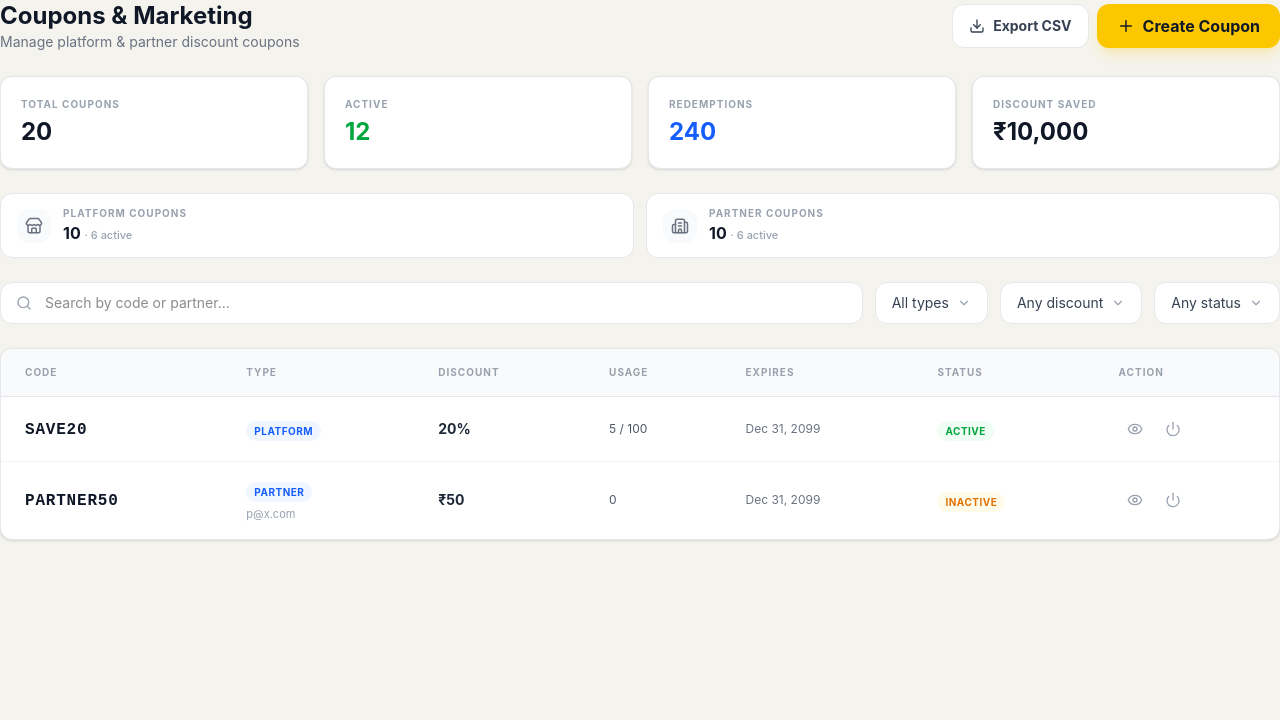
Scenario: CouponsMarketing › opens the detail slide-over
Click the text "SAVE20". click: (56, 430)
box: x1=25 y1=421 x2=87 y2=439
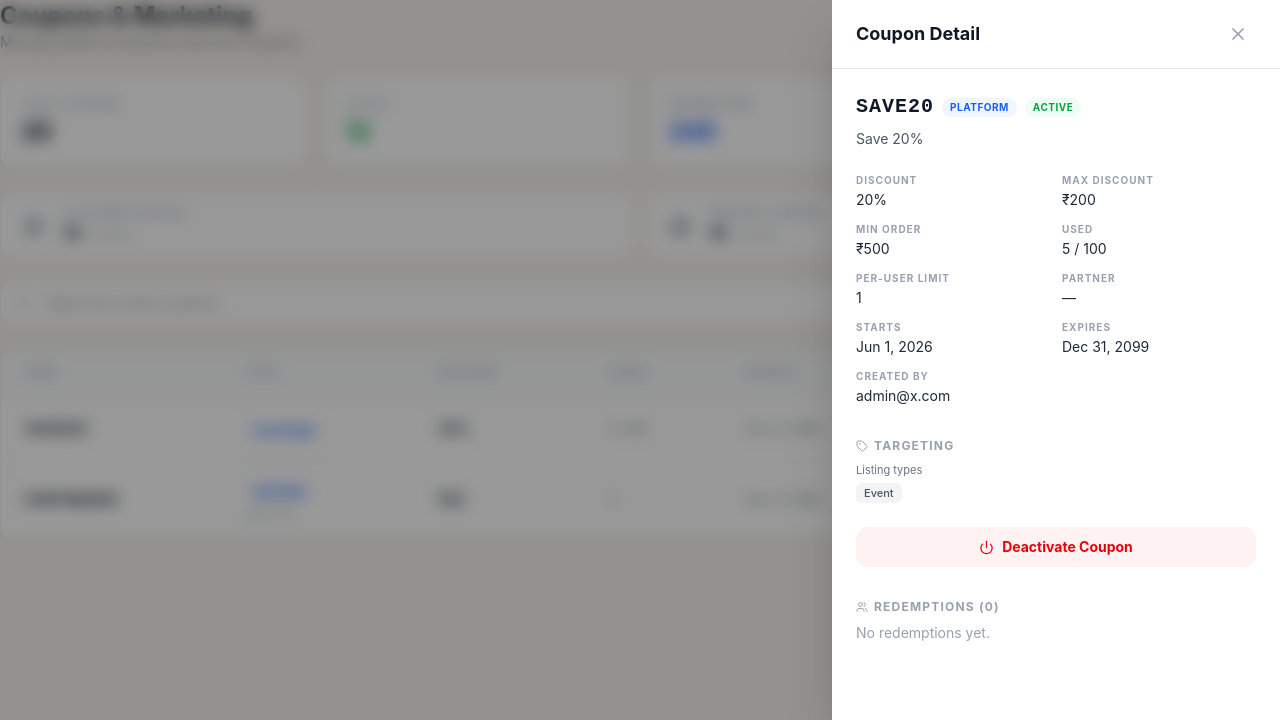
Expected: the heading "Coupon Detail" is shown, x1=856 y1=20 x2=980 y2=48
Expected: the text "Save 20%" is shown, x1=856 y1=130 x2=924 y2=147
